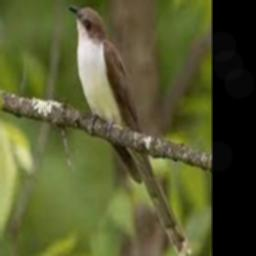Cuckoo: (67, 5, 192, 256)
